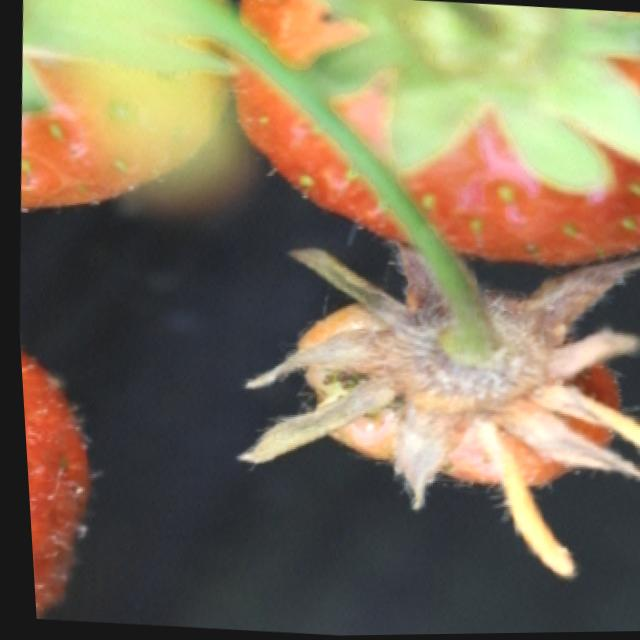Gray Mold: (228, 237, 640, 582)
